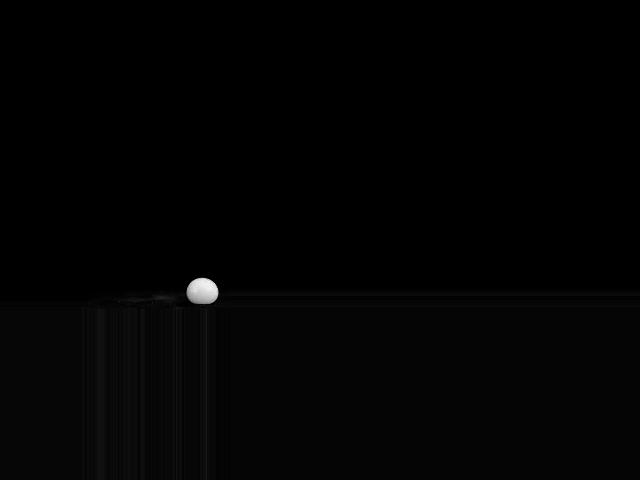egg: (185, 277, 218, 304)
